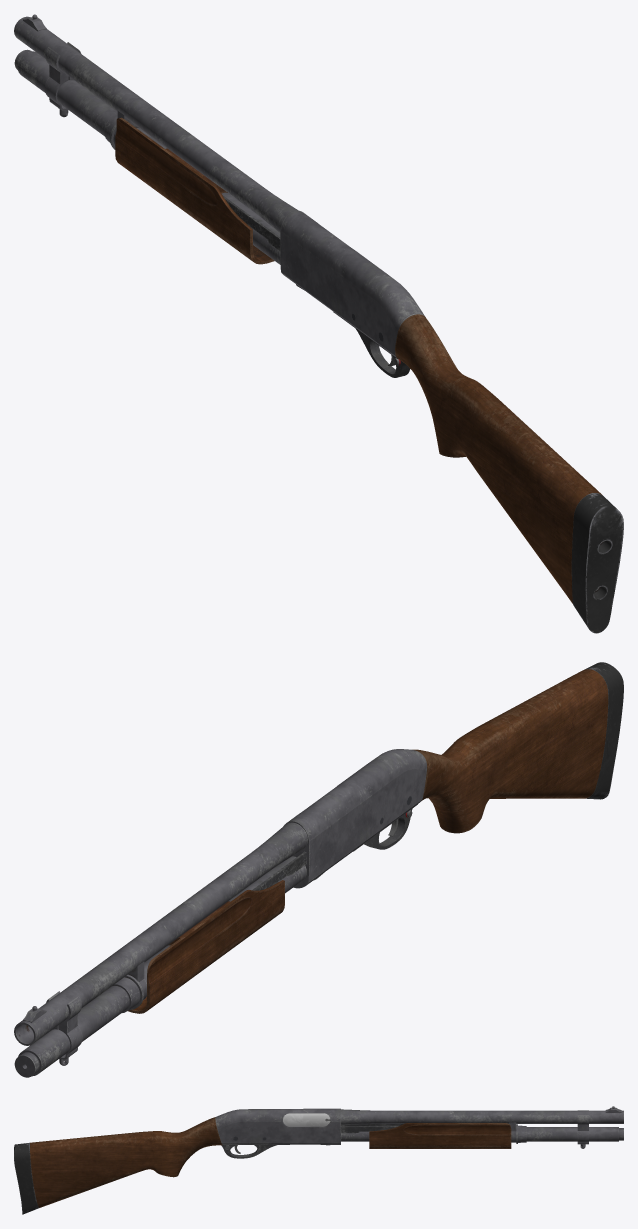
File: shotgun.glb
The picture shows the model from 3 angles, top to bottom: view 1: azimuth 30°, elevation 25°; view 2: azimuth 150°, elevation 25°; view 3: azimuth 270°, elevation 25°; orthographic projection. The views are drawn at different scales.
Visible parts, largest first — view 1: StockWood_Lp, Barrel_Lp, Body_Lp, Grip_Lp, StockPlastic_Lp, BarrelHolder_Lp; view 2: StockWood_Lp, Barrel_Lp, Body_Lp, Grip_Lp, StockPlastic_Lp, BarrelHolder_Lp, Triggerholder_Lp, BarrelPump_Lp; view 3: StockWood_Lp, Barrel_Lp, Body_Lp, Grip_Lp, StockPlastic_Lp, EjectorTop_Lp, BarrelPump_Lp, BarrelHolder_Lp, Triggerholder_Lp.
Part boxes in pixels (bbox=[...]): StockWood_Lp: bbox=[395, 314, 602, 603]; Barrel_Lp: bbox=[14, 14, 298, 264]; Body_Lp: bbox=[280, 210, 425, 357]; Grip_Lp: bbox=[115, 117, 274, 264]; StockPlastic_Lp: bbox=[571, 493, 623, 633]; BarrelHolder_Lp: bbox=[44, 42, 81, 117]; StockWood_Lp: bbox=[412, 669, 608, 833]; Barrel_Lp: bbox=[14, 822, 307, 1077]; Body_Lp: bbox=[284, 749, 426, 888]; Grip_Lp: bbox=[128, 880, 284, 1013]; StockPlastic_Lp: bbox=[584, 662, 623, 799]; BarrelHolder_Lp: bbox=[46, 991, 82, 1065]; Triggerholder_Lp: bbox=[353, 804, 417, 851]; BarrelPump_Lp: bbox=[252, 851, 306, 890]; StockWood_Lp: bbox=[30, 1117, 222, 1207]; Barrel_Lp: bbox=[341, 1106, 623, 1143]; Body_Lp: bbox=[215, 1108, 340, 1144]; Grip_Lp: bbox=[369, 1123, 511, 1148]; StockPlastic_Lp: bbox=[14, 1142, 38, 1214]; EjectorTop_Lp: bbox=[283, 1113, 330, 1126]; BarrelPump_Lp: bbox=[341, 1124, 403, 1133]; BarrelHolder_Lp: bbox=[577, 1110, 588, 1148]; Triggerholder_Lp: bbox=[221, 1144, 289, 1158].
Bounding box in the file's own units: 0.2027 × 1.13 × 5.8.
1 material, 1 textured.
